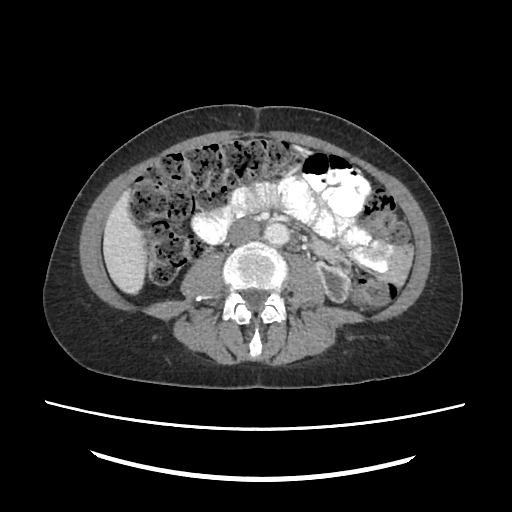Lesion: (318, 262, 349, 304)
